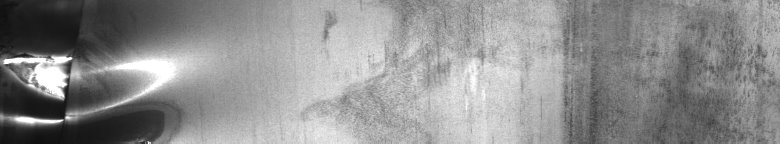ke: (52, 48, 168, 136)
